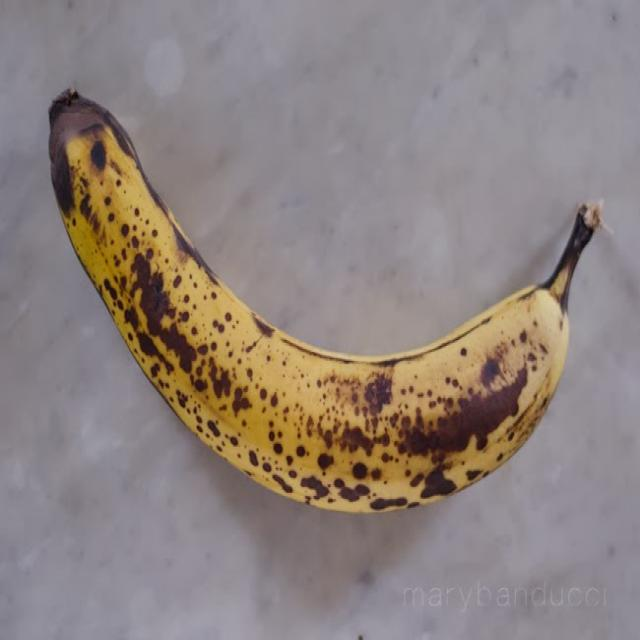Banana: (44, 85, 603, 518)
